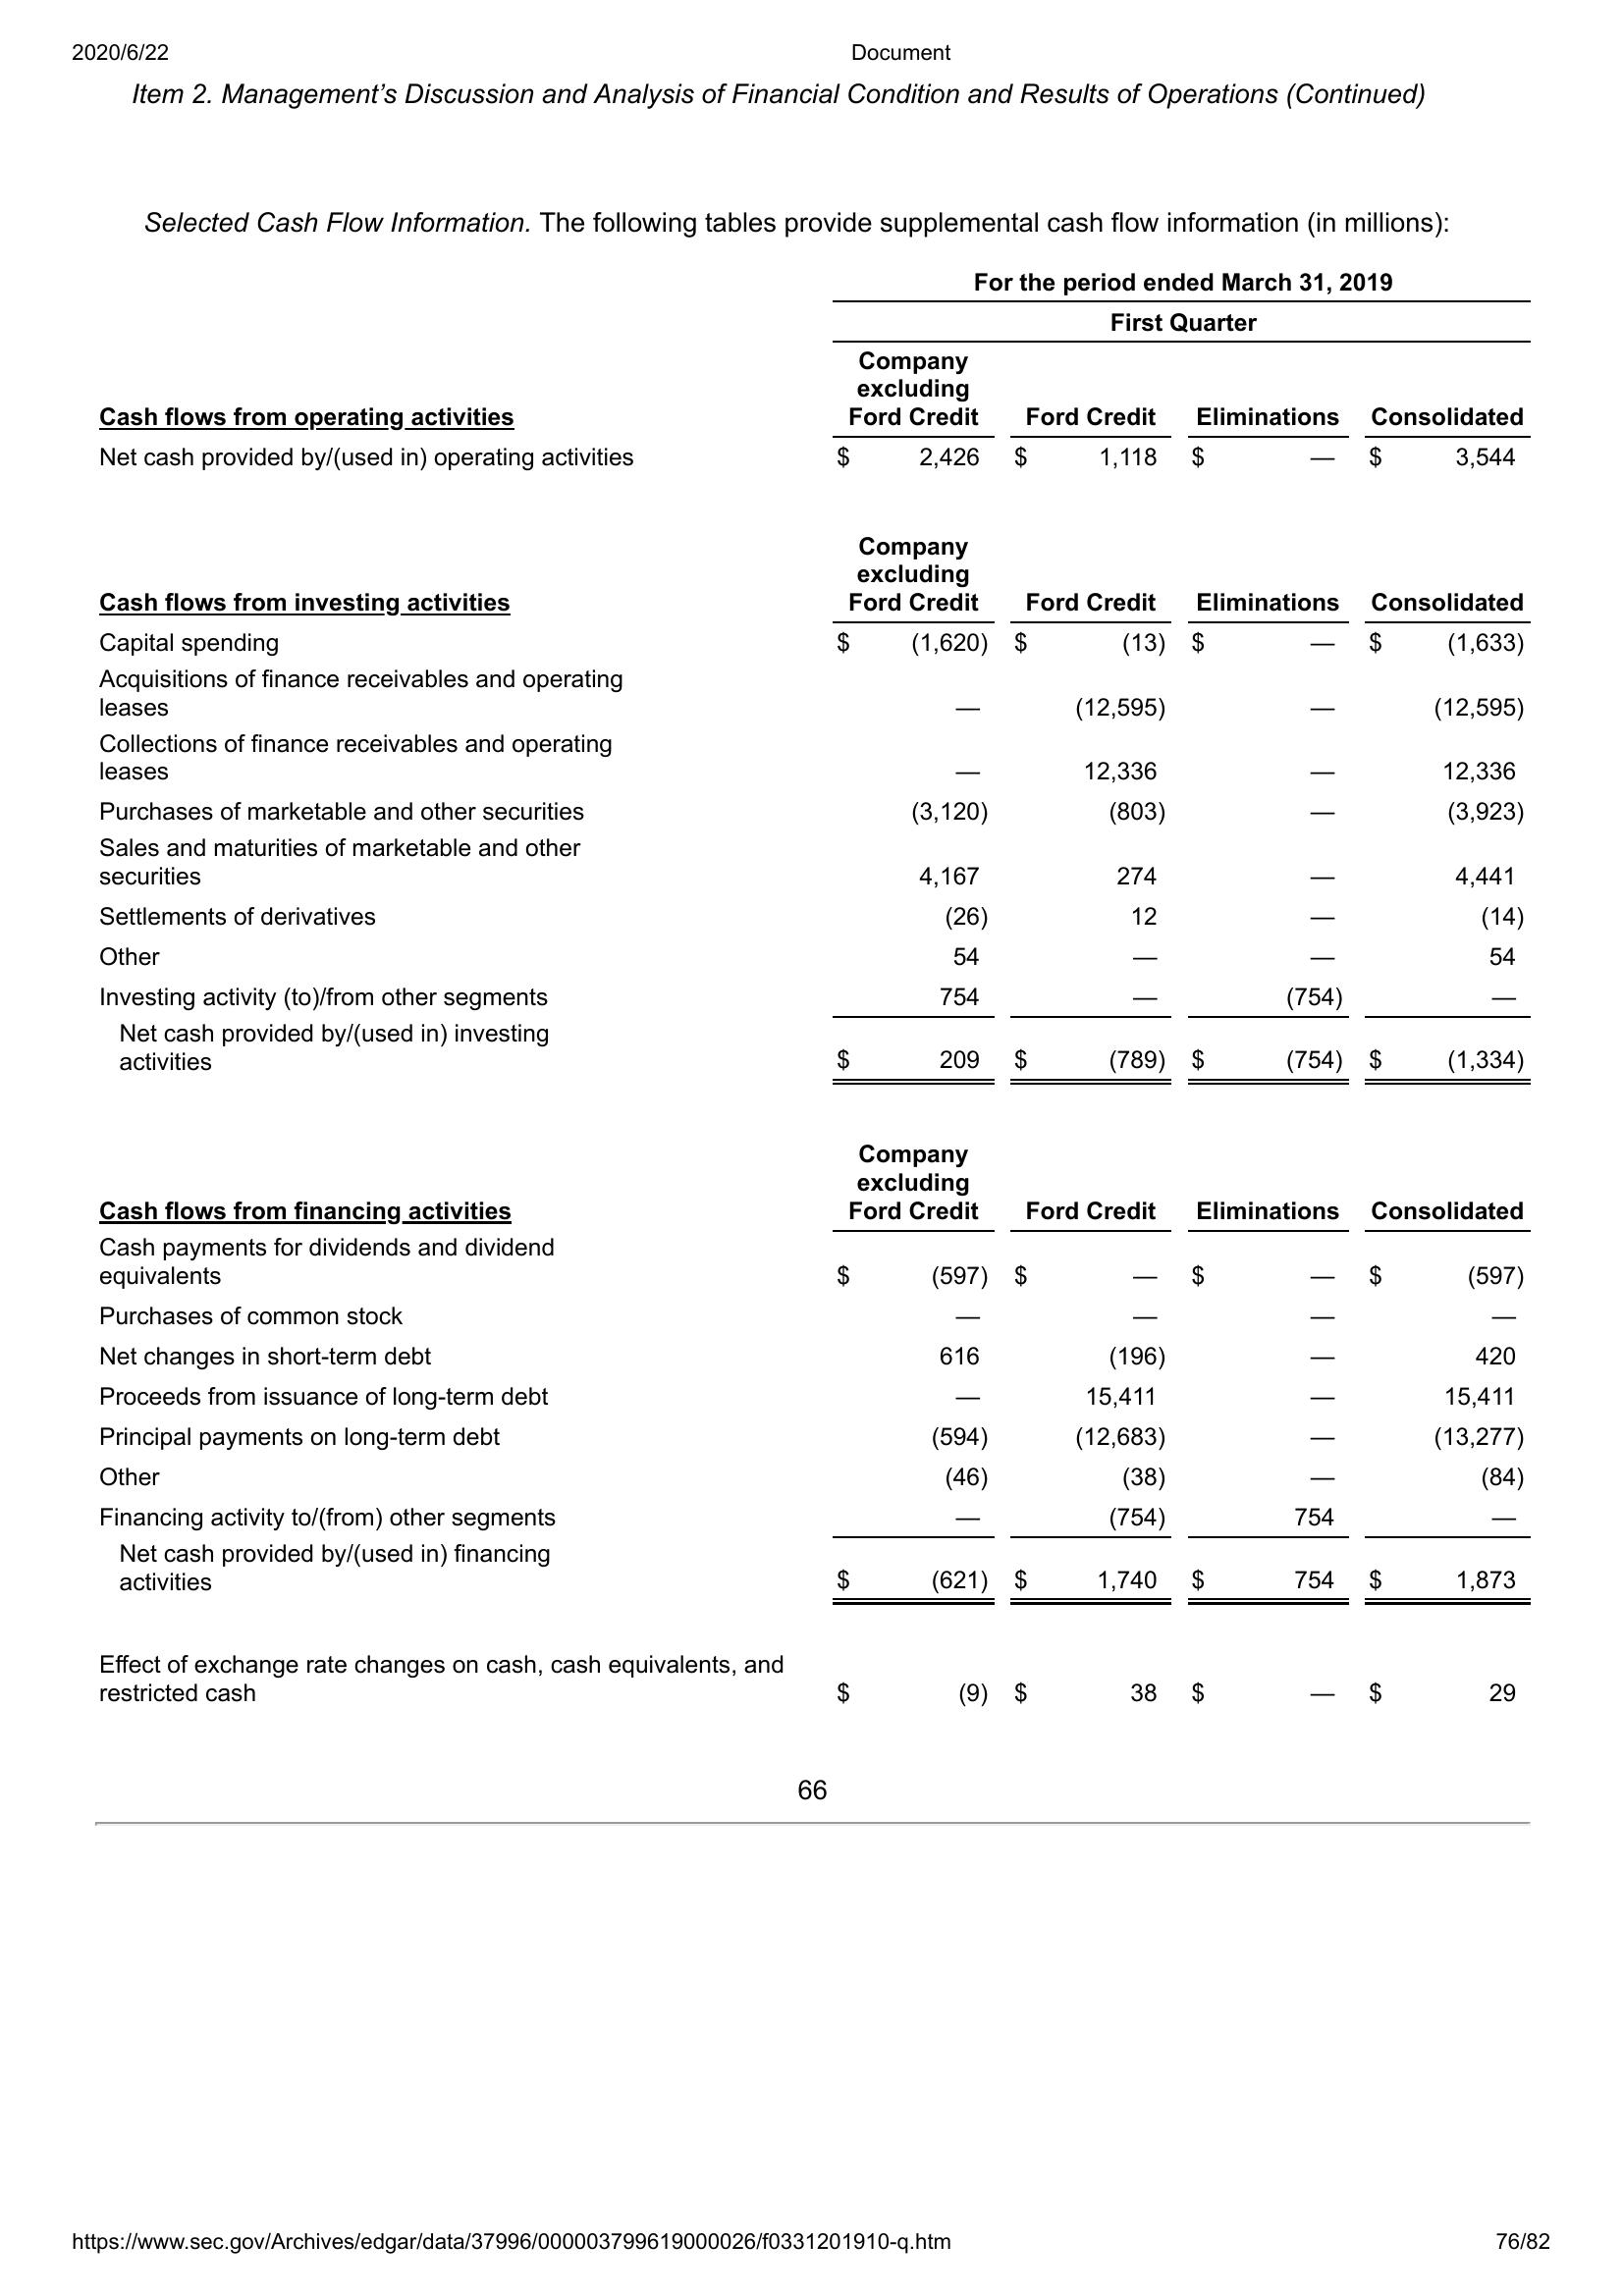table: (90, 263, 1533, 1090), (97, 1144, 1539, 1710)
